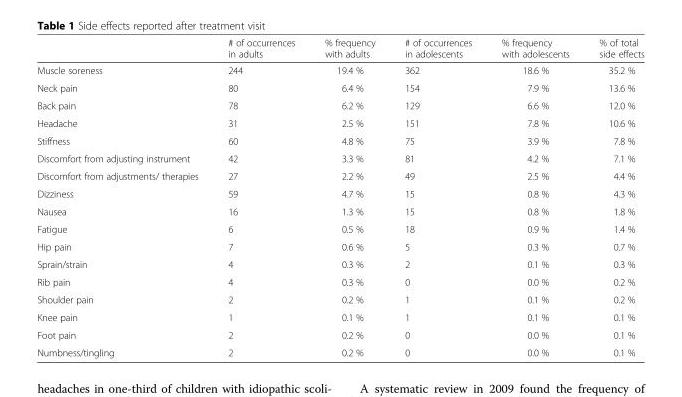table: (36, 36, 643, 357)
table column: (36, 36, 212, 357), (212, 36, 309, 357), (389, 36, 486, 357), (486, 36, 583, 357), (309, 36, 389, 357), (583, 36, 643, 357)
table column header: (36, 36, 643, 61)
table row: (36, 36, 643, 61), (36, 78, 643, 96), (36, 96, 643, 114), (36, 131, 643, 149), (36, 166, 643, 184), (36, 184, 643, 202), (36, 219, 643, 237), (36, 237, 643, 255), (36, 272, 643, 290), (36, 290, 643, 308), (36, 325, 643, 343), (36, 61, 643, 78), (36, 114, 643, 131), (36, 149, 643, 166), (36, 202, 643, 219), (36, 255, 643, 272), (36, 308, 643, 325), (36, 343, 643, 357)
